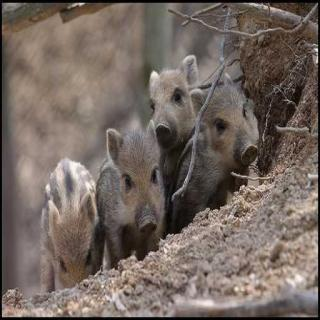Pig: (85, 118, 212, 267), (39, 117, 117, 268), (191, 71, 294, 182), (151, 32, 222, 160)
